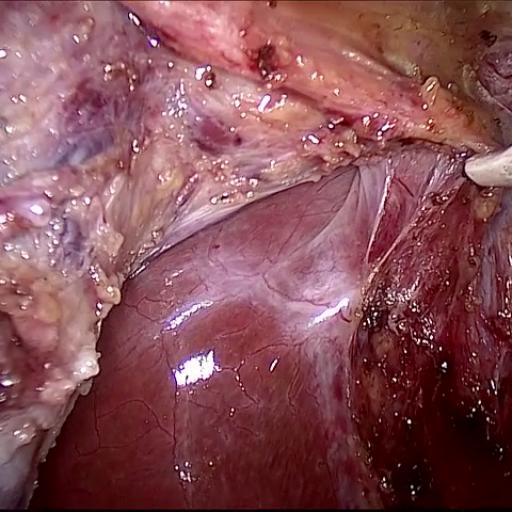Hook: (453, 128, 512, 212)
